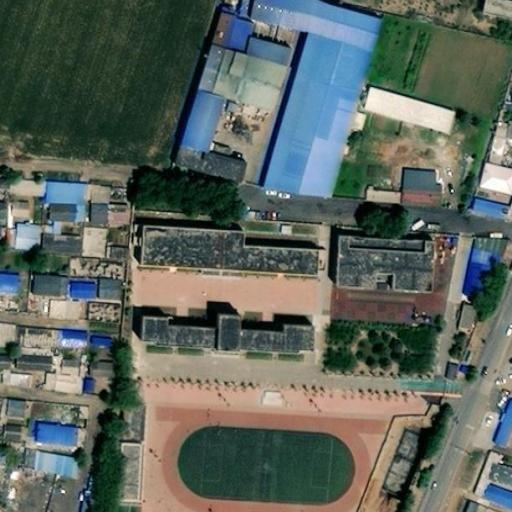building: (268, 52, 374, 217), (144, 238, 319, 290), (249, 5, 383, 70), (143, 324, 315, 366), (338, 244, 438, 304), (232, 53, 304, 134), (367, 104, 456, 148), (399, 419, 441, 504), (458, 229, 506, 299), (183, 112, 230, 178), (46, 193, 95, 248), (395, 164, 440, 202), (199, 64, 231, 117), (473, 464, 505, 512), (119, 456, 144, 512), (478, 175, 512, 211), (486, 135, 512, 179), (16, 340, 65, 363), (13, 377, 59, 401), (93, 217, 133, 242), (43, 246, 84, 268), (359, 181, 399, 203), (483, 11, 512, 41), (473, 209, 512, 231), (39, 436, 78, 458), (213, 31, 236, 68), (494, 416, 512, 463), (36, 289, 72, 312), (46, 310, 82, 333), (83, 240, 109, 269), (452, 297, 474, 329), (14, 191, 49, 210), (71, 291, 101, 311), (58, 380, 85, 402), (19, 240, 44, 263), (100, 291, 124, 312), (0, 268, 18, 292), (64, 343, 89, 360), (114, 401, 131, 426), (492, 480, 512, 501), (8, 411, 29, 431), (441, 357, 460, 379), (94, 196, 112, 218), (484, 498, 512, 512), (107, 260, 131, 273), (0, 198, 10, 227)
